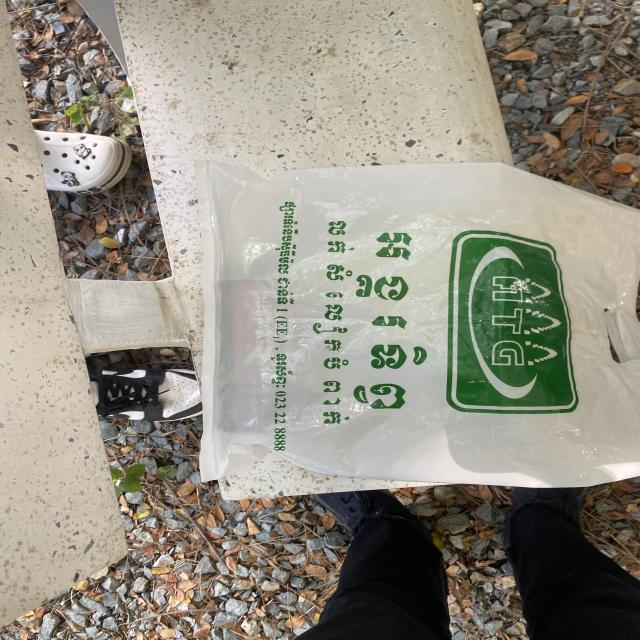1: (270, 197, 308, 307)
Yolov11kh: (350, 225, 436, 418), (306, 215, 360, 438), (266, 349, 298, 389)
